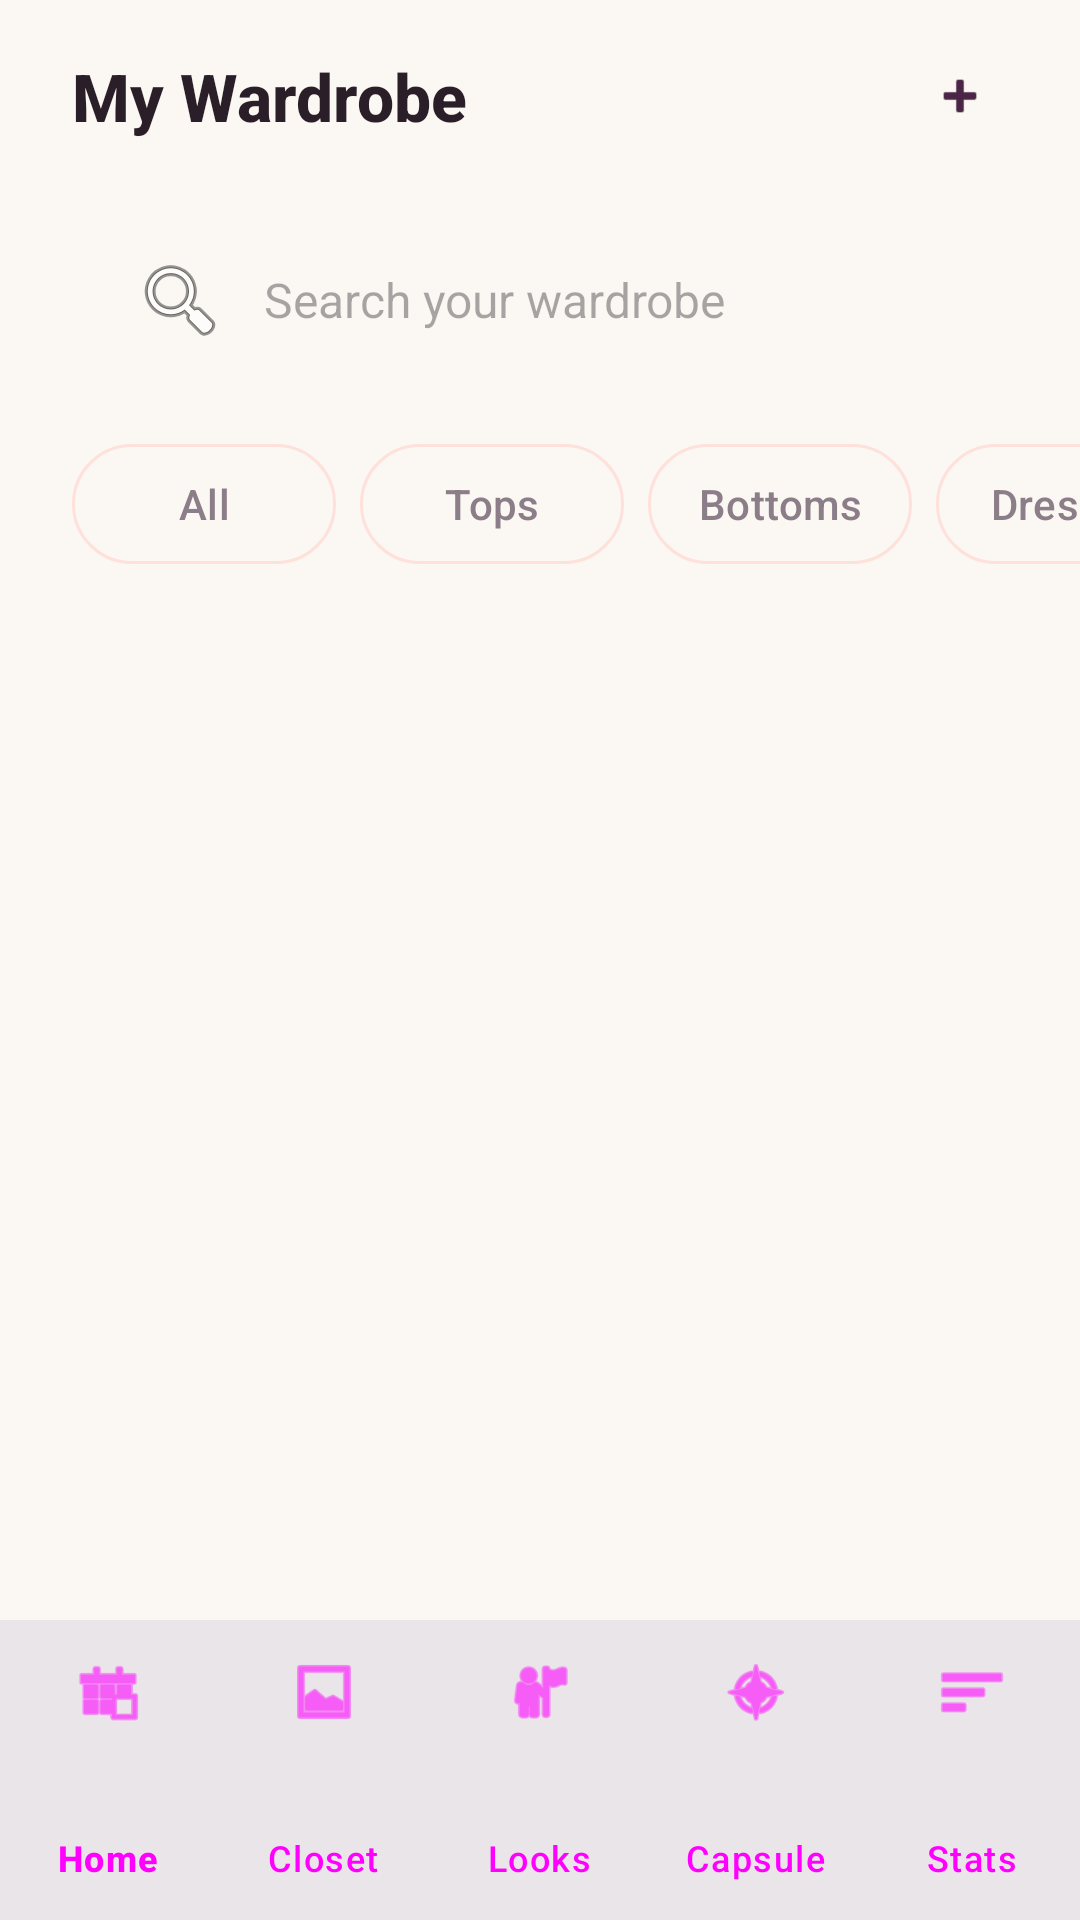

Icons on this 1080w x 1920h Android screen, each with the point to tap as (x,y):
Add clothing: (960,96)
